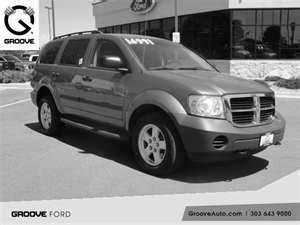car: (15, 22, 298, 197)
